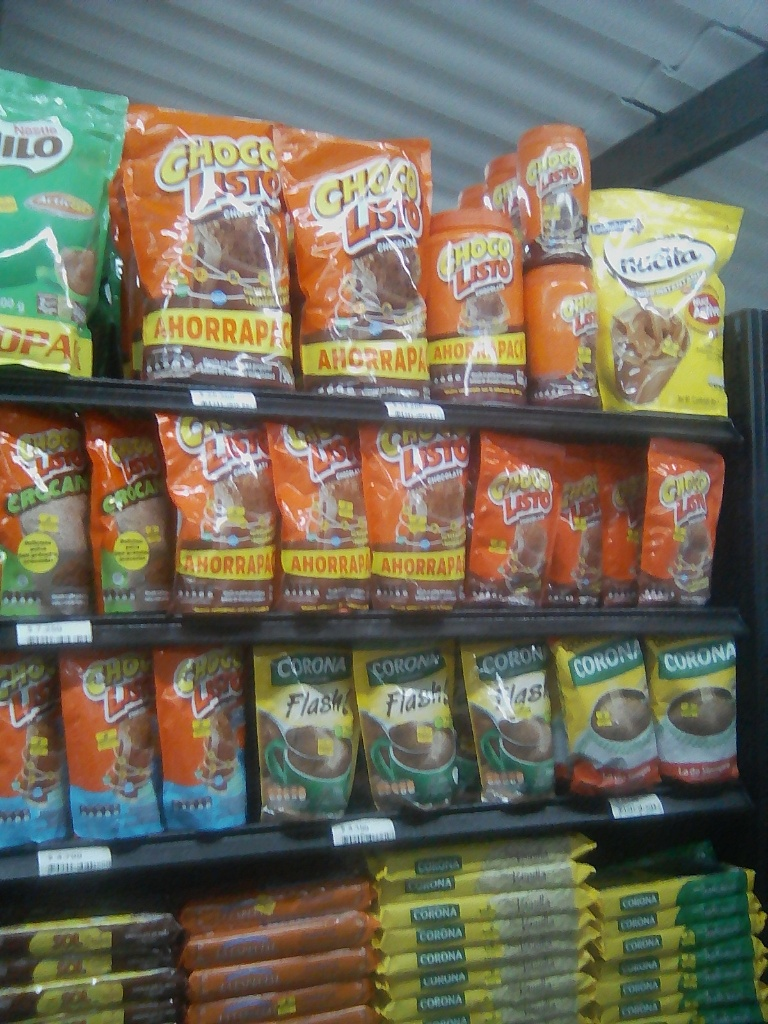COL0170102DYP50000: (68, 410, 171, 620)
COL0170103DYP44000: (165, 413, 268, 615)
COL0170103TRR00100: (433, 198, 524, 403)
COL0170103TRR30000: (500, 124, 589, 260)
COL0170104DYP20000: (2, 654, 70, 852)
COL0170203DYP50000: (1, 58, 114, 369)
